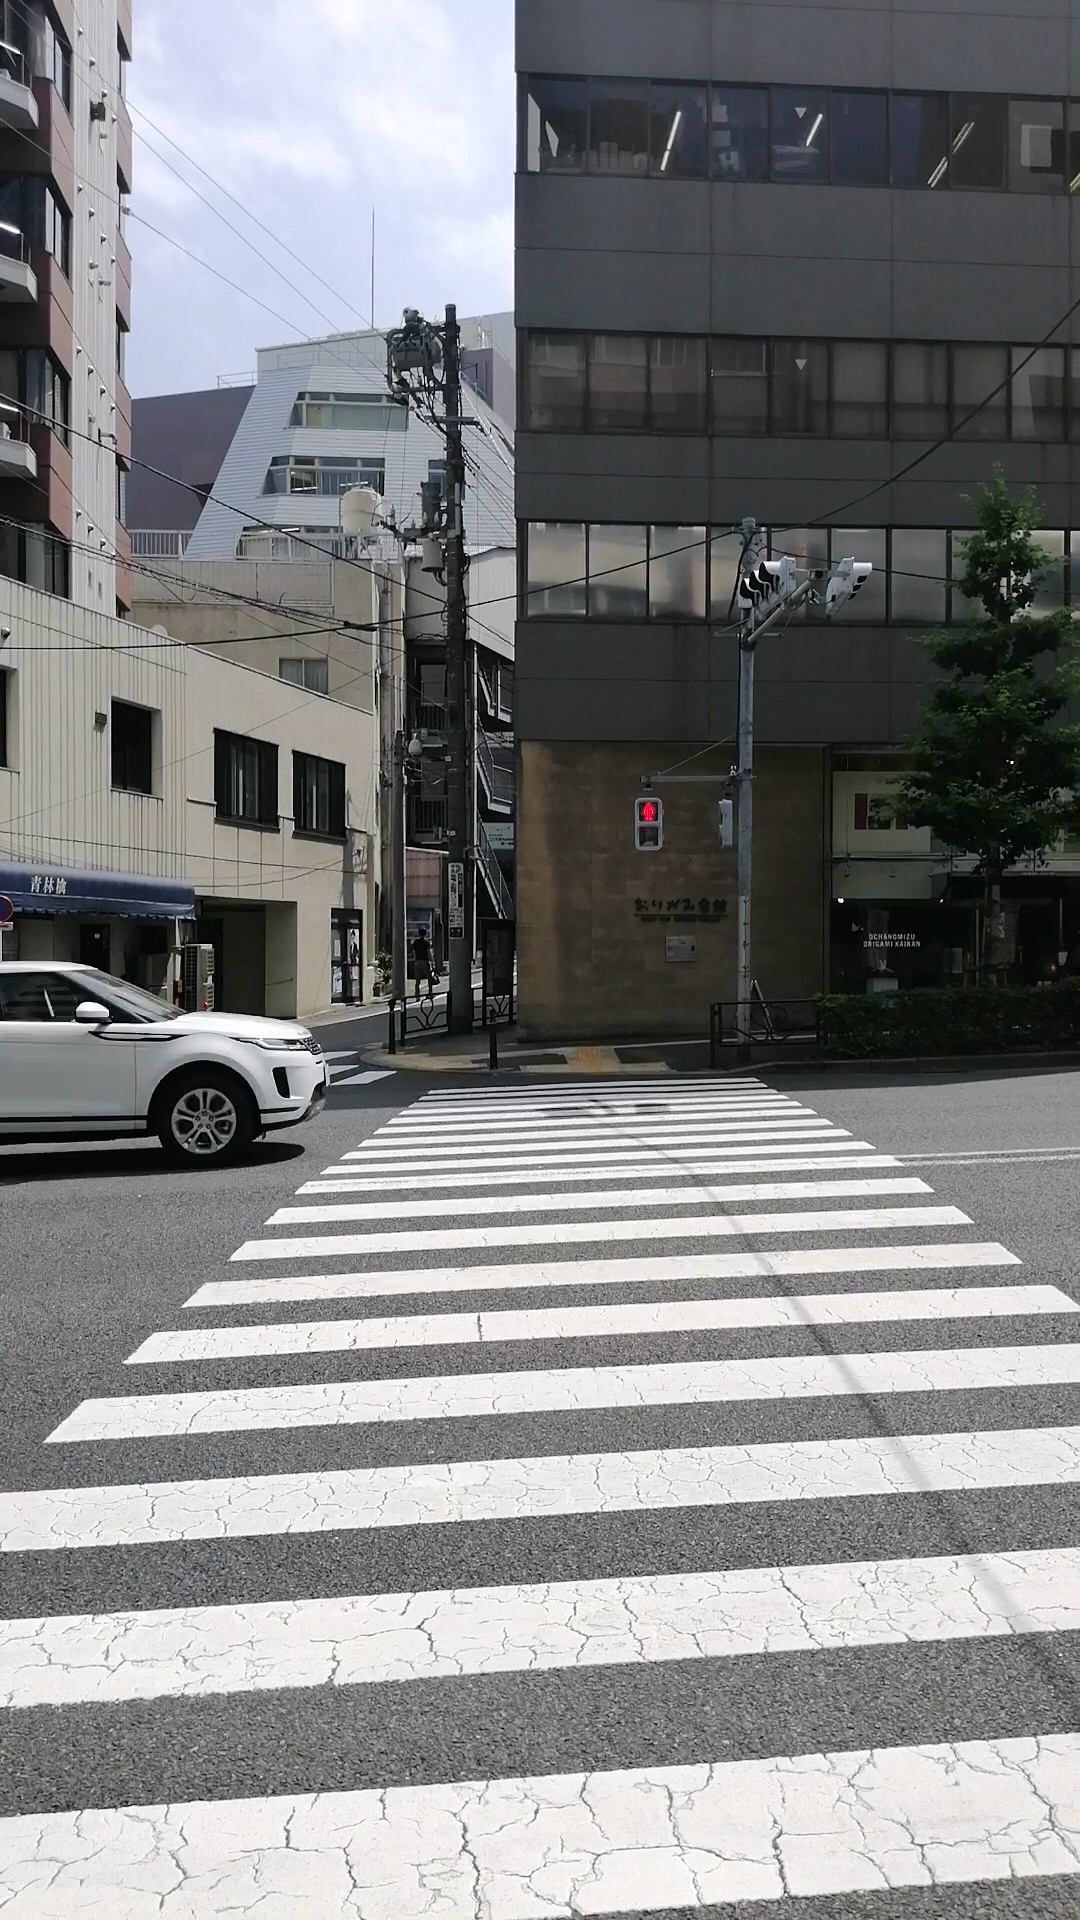red: (632, 798, 665, 851)
